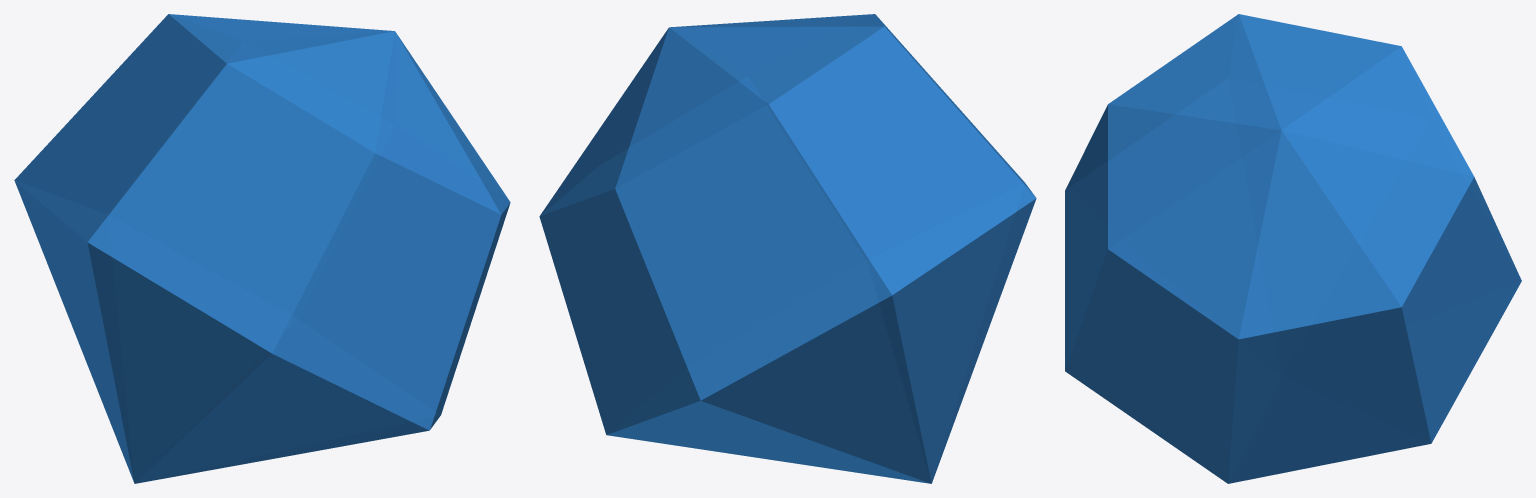
The model's file is crystal2_small.FBX.
3 renders of one model, left to right at view 1: azimuth 30°, elevation 25°; view 2: azimuth 150°, elevation 25°; view 3: azimuth 270°, elevation 25°, orthographic. The views are drawn at different scales.
Visible parts, largest first — view 1: crystal2; view 2: crystal2; view 3: crystal2.
Part boxes in pixels (box(x1,y1,x2,y2)): crystal2: box(14, 14, 510, 483); crystal2: box(539, 14, 1036, 483); crystal2: box(1065, 14, 1521, 483).
Size of the model in its own units: 22.66 by 21.21 by 22.25.
